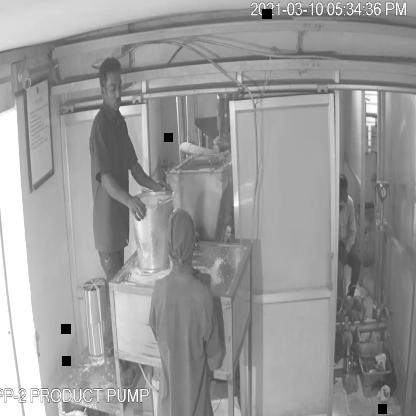no_glove: (129, 146, 176, 207), (100, 175, 154, 226)
